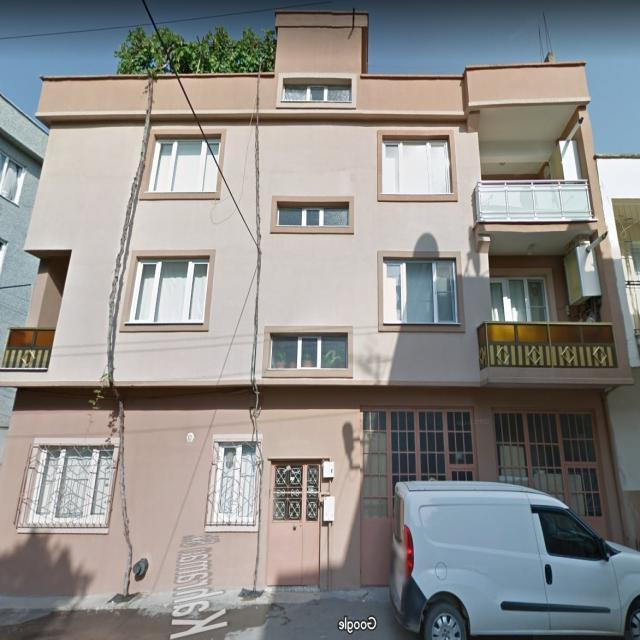Building: (0, 15, 633, 606)
